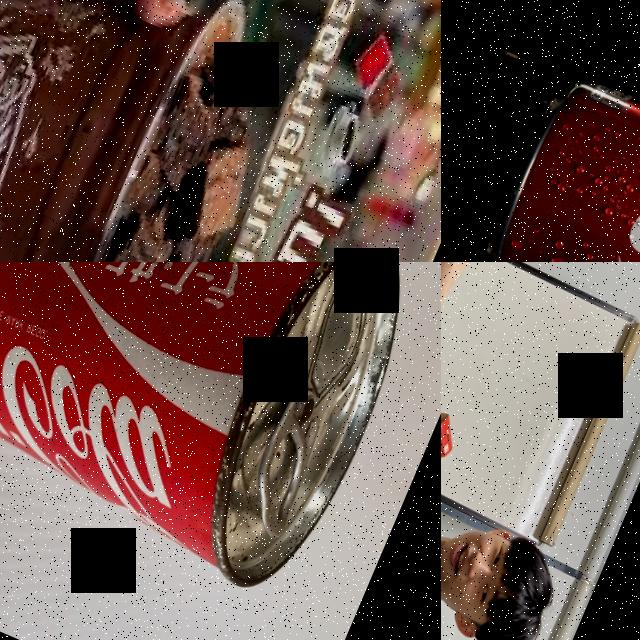can: (0, 262, 440, 610), (461, 62, 640, 262)
cup: (0, 0, 259, 262)
